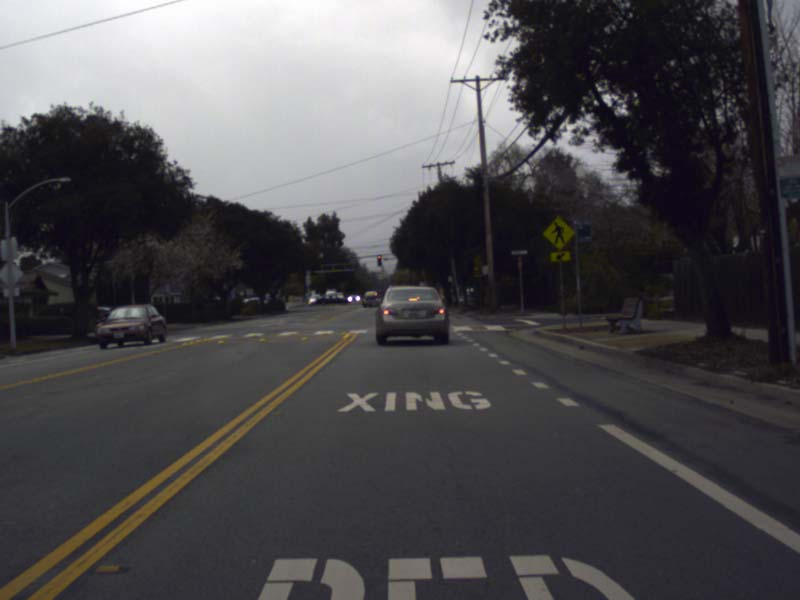Red: (377, 254, 381, 265)
